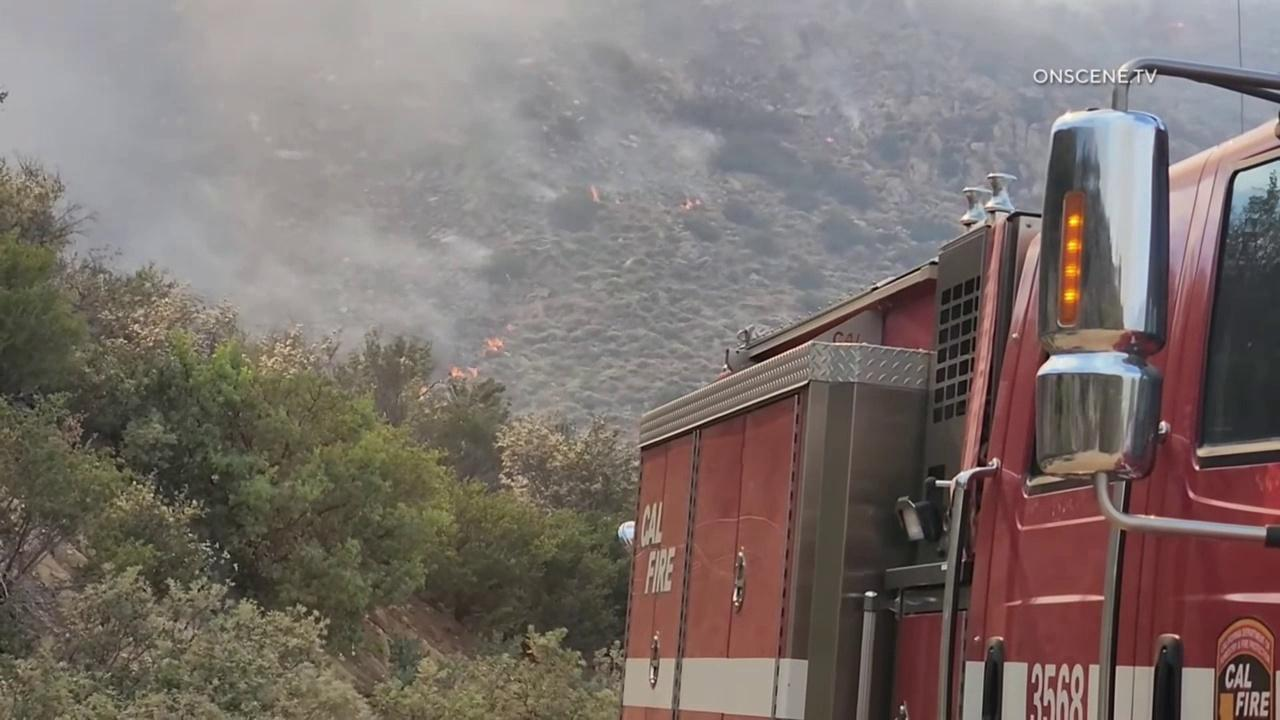fire: (444, 364, 479, 386), (477, 333, 505, 358), (678, 195, 704, 212), (587, 183, 604, 205), (416, 386, 434, 403), (826, 136, 834, 144)
smoke: (0, 0, 1280, 431)
